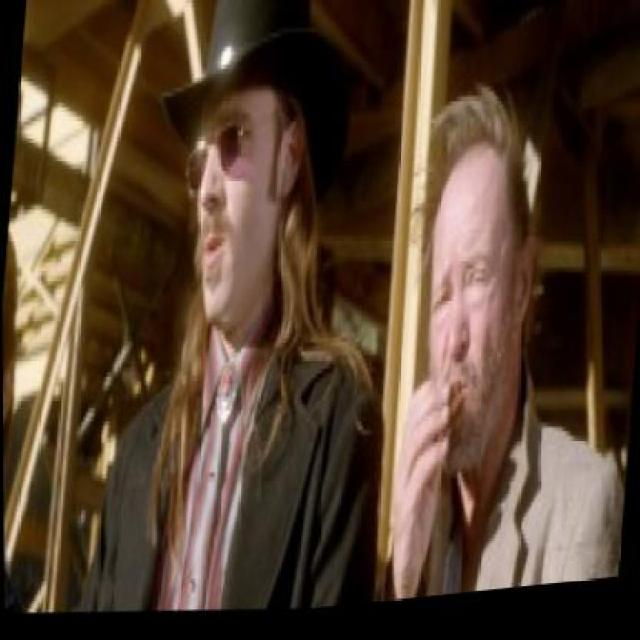hat: (147, 0, 367, 232)
